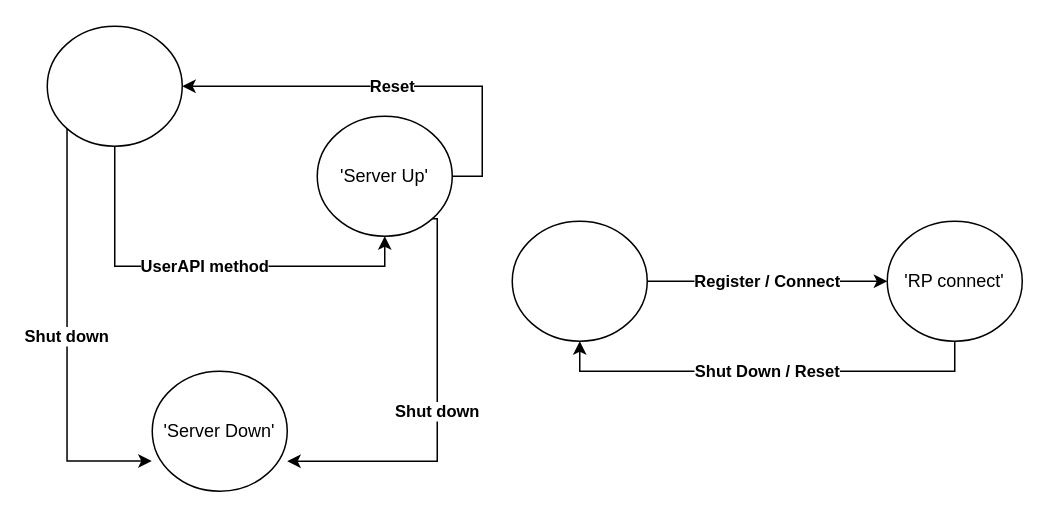
The diagram is 1050 pixels wide and 518 high, and some of its shapes have lost their labels. Each missing label, with the centre of its shape:
"'RP disconnect'" goes at point 579,280.
"'Server with no data'" goes at point 114,85.
